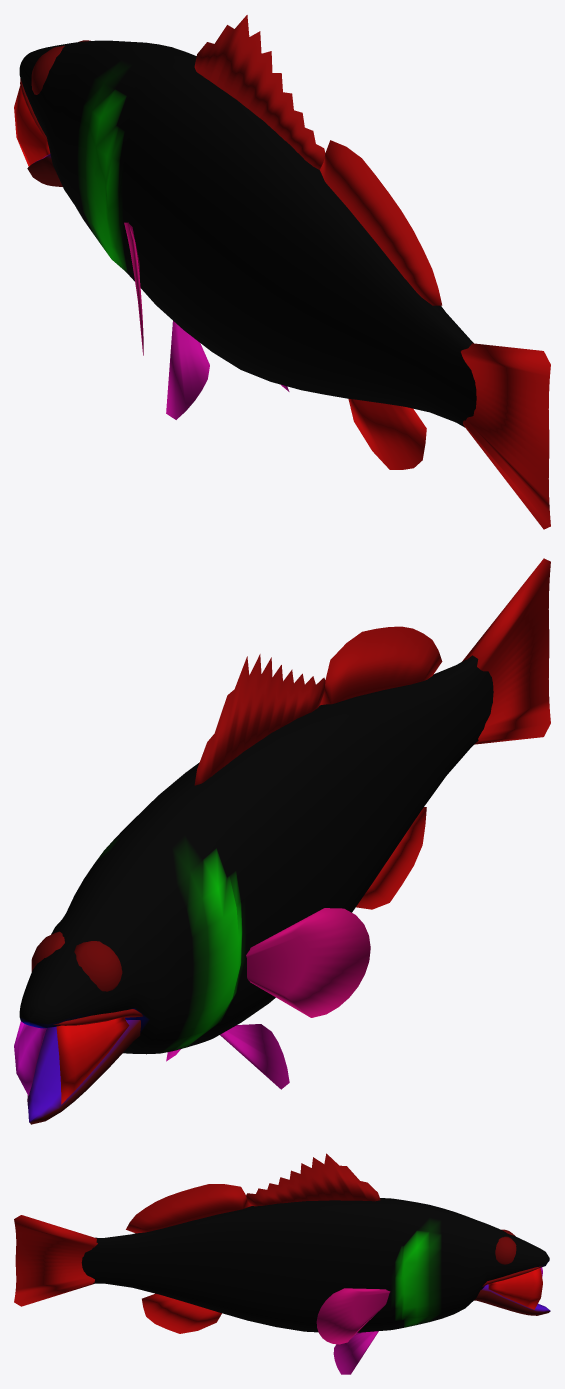
The model's file is kelp_bass_game.glb.
3 renders of one model, top to bottom at view 1: azimuth 30°, elevation 25°; view 2: azimuth 150°, elevation 25°; view 3: azimuth 270°, elevation 25°, orthographic. The views are drawn at different scales.
Visible parts, largest first — view 1: kelp_bass_game; view 2: kelp_bass_game; view 3: kelp_bass_game.
Boxes of the visible parts, x1,y1,x2,y2 form: kelp_bass_game: (14,15,550,529); kelp_bass_game: (14,558,550,1124); kelp_bass_game: (14,1153,550,1374).
Bounding box in the file's own units: 0.1245 × 0.2102 × 0.4939.
